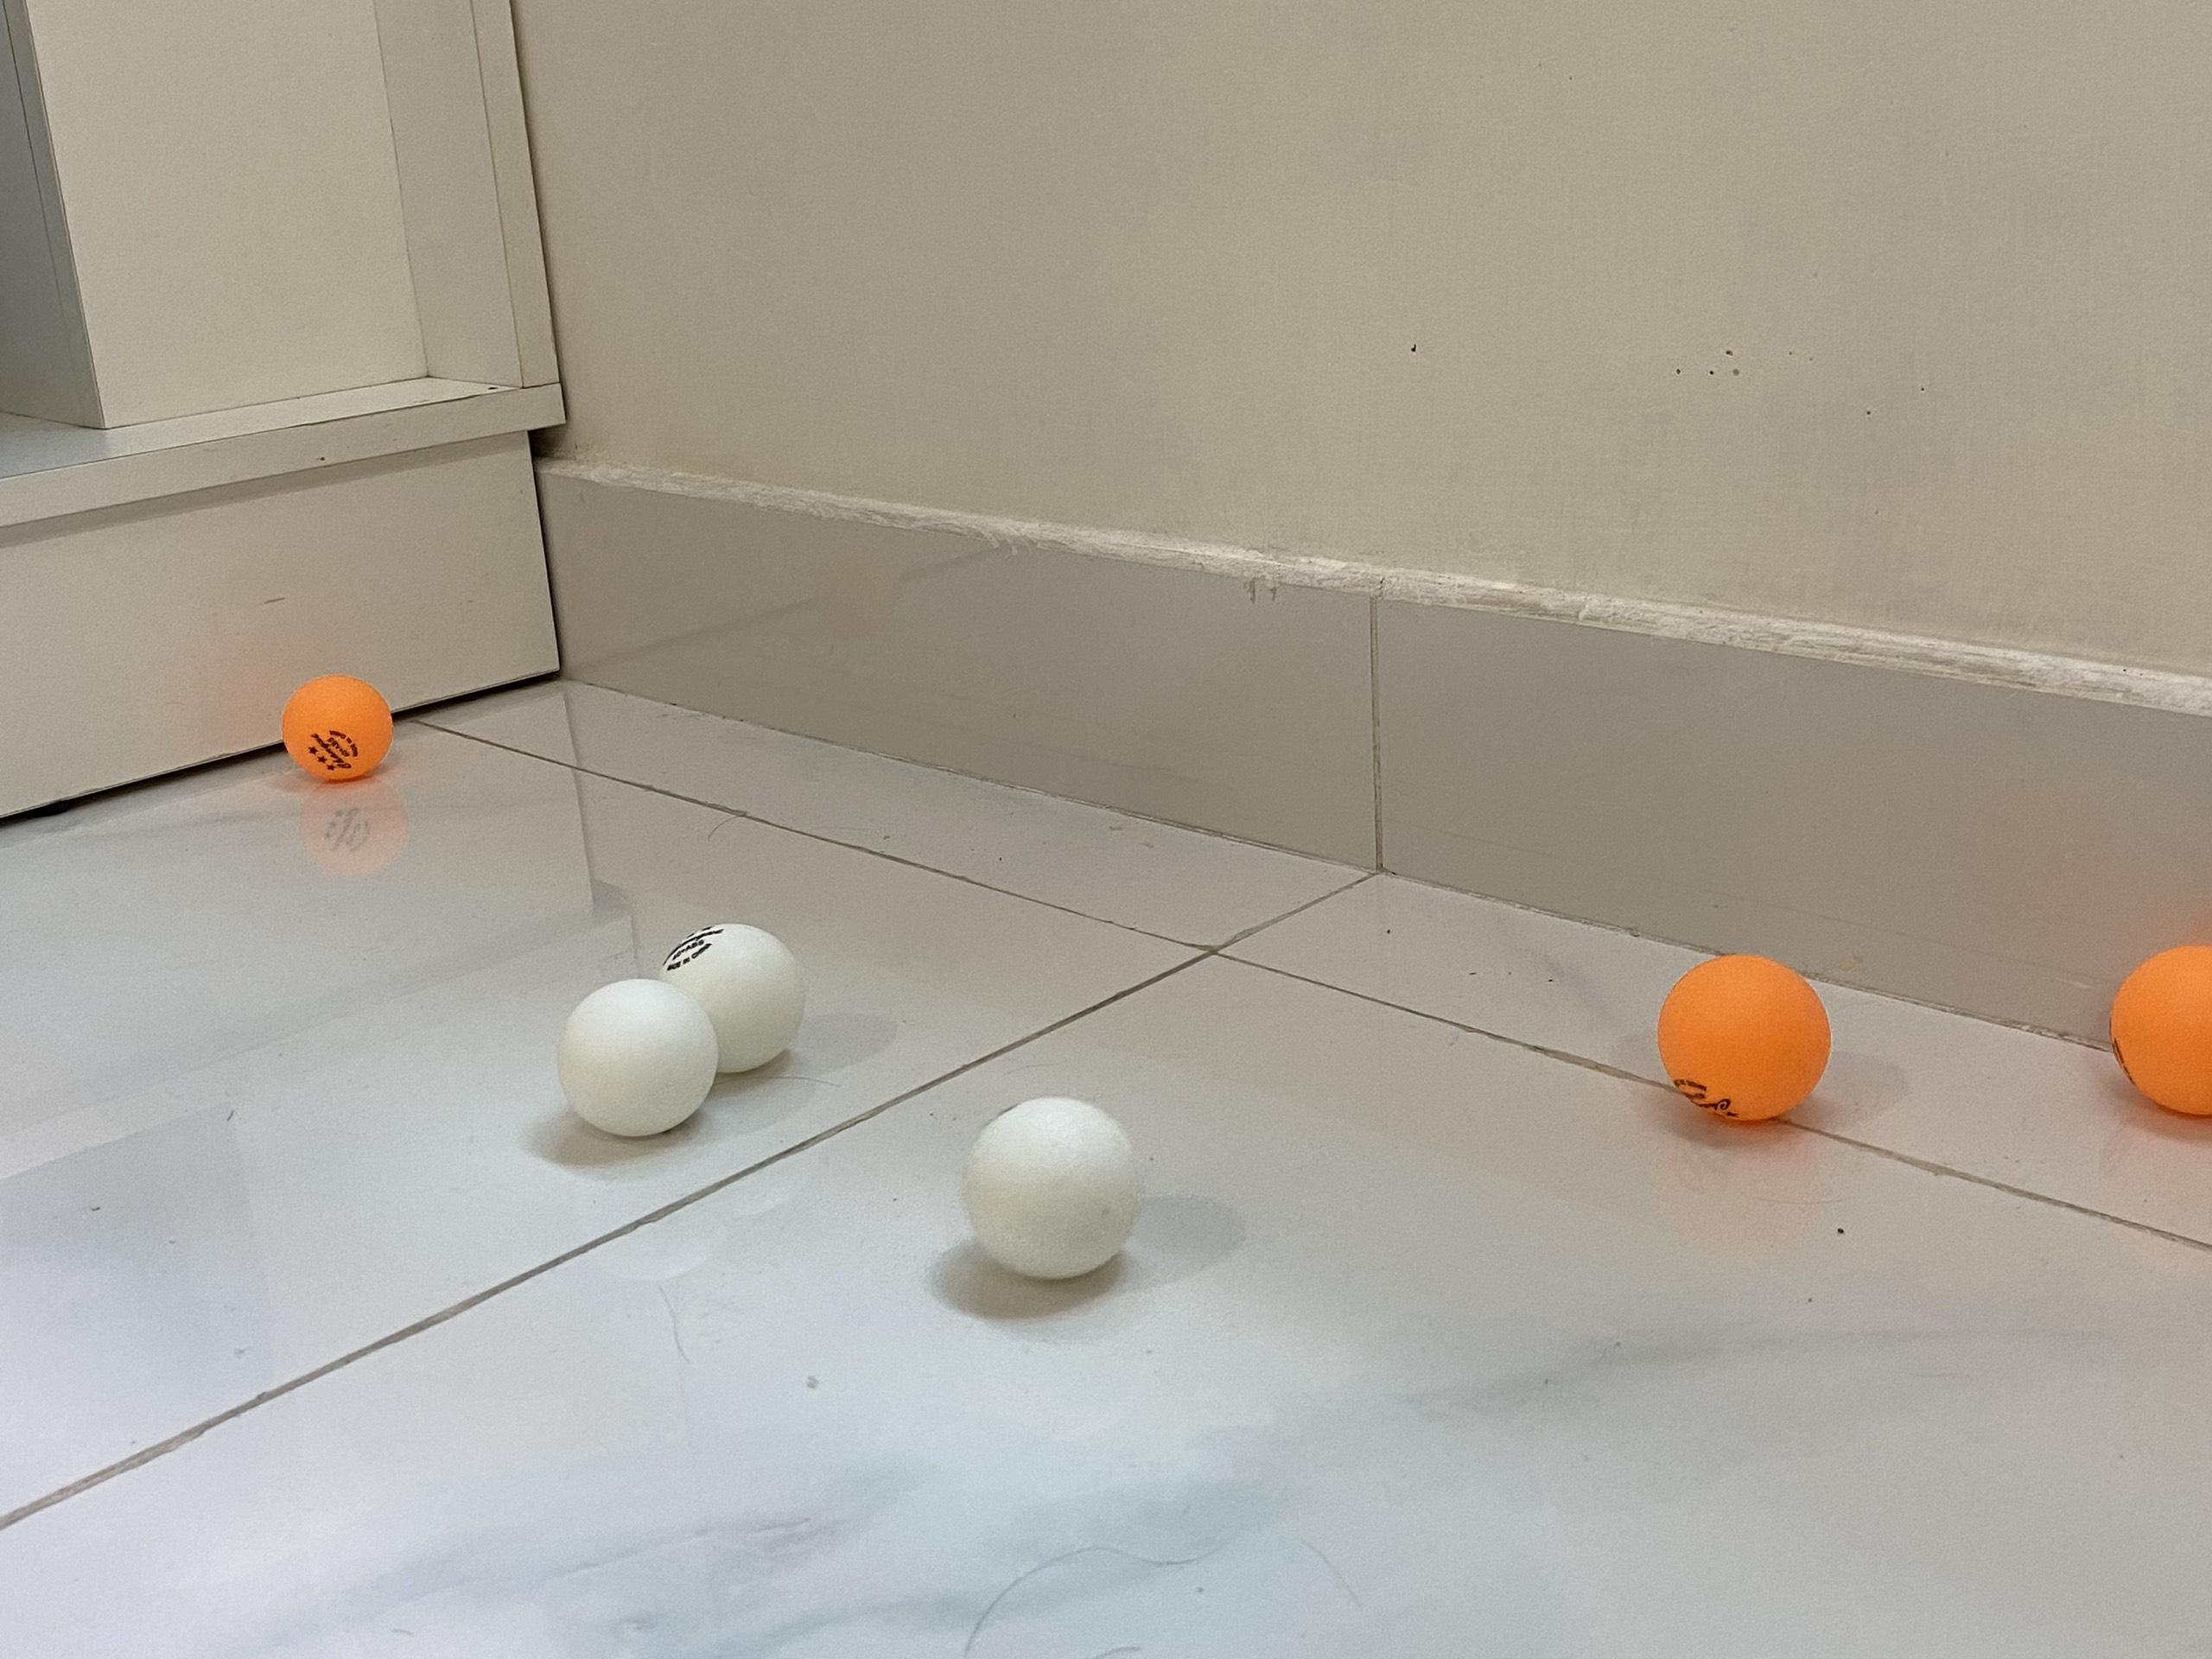oball: (1655, 946, 1843, 1124), (2107, 939, 2212, 1115), (282, 667, 395, 782)
